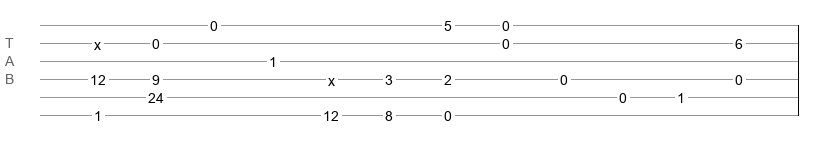0: (152, 36, 160, 46), (210, 18, 218, 28), (444, 108, 452, 118), (502, 36, 510, 46), (502, 18, 510, 28), (560, 72, 568, 82), (619, 90, 627, 100), (735, 72, 743, 82)
1: (94, 108, 102, 118), (269, 54, 277, 64), (677, 90, 685, 100)
12: (90, 72, 106, 82), (323, 108, 339, 118)
2: (444, 72, 452, 82)
24: (148, 90, 164, 100)
3: (385, 72, 393, 82)
5: (444, 18, 452, 28)
6: (735, 36, 743, 46)
8: (385, 108, 393, 118)
9: (152, 72, 160, 82)
x: (94, 37, 101, 45), (328, 73, 335, 81)
